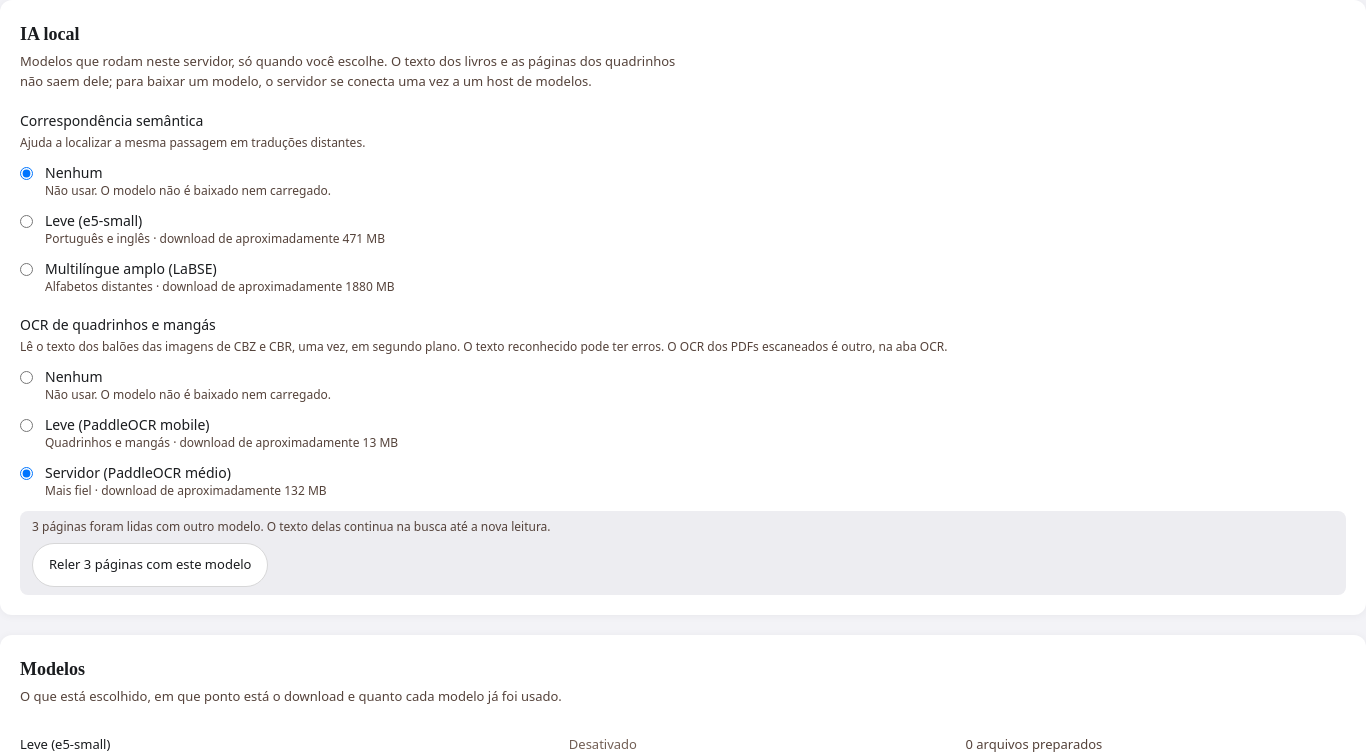
Scenario: IA local: reading again with the chosen model › does not read again when the question is cancelled
Click the button "Reler 3 páginas com este modelo". click: (150, 565)
box: x1=32 y1=543 x2=268 y2=587
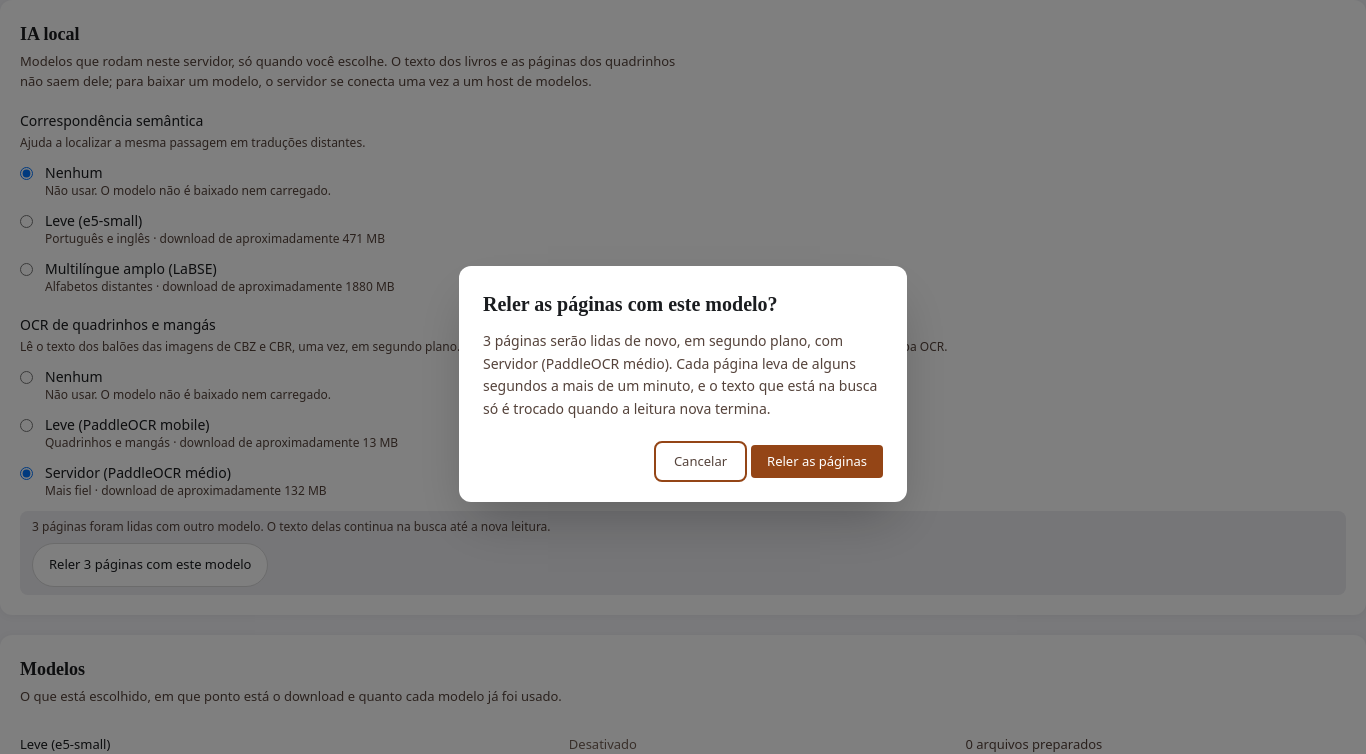
Click the button "Cancelar". click: (700, 461)
box: x1=658 y1=445 x2=743 y2=478
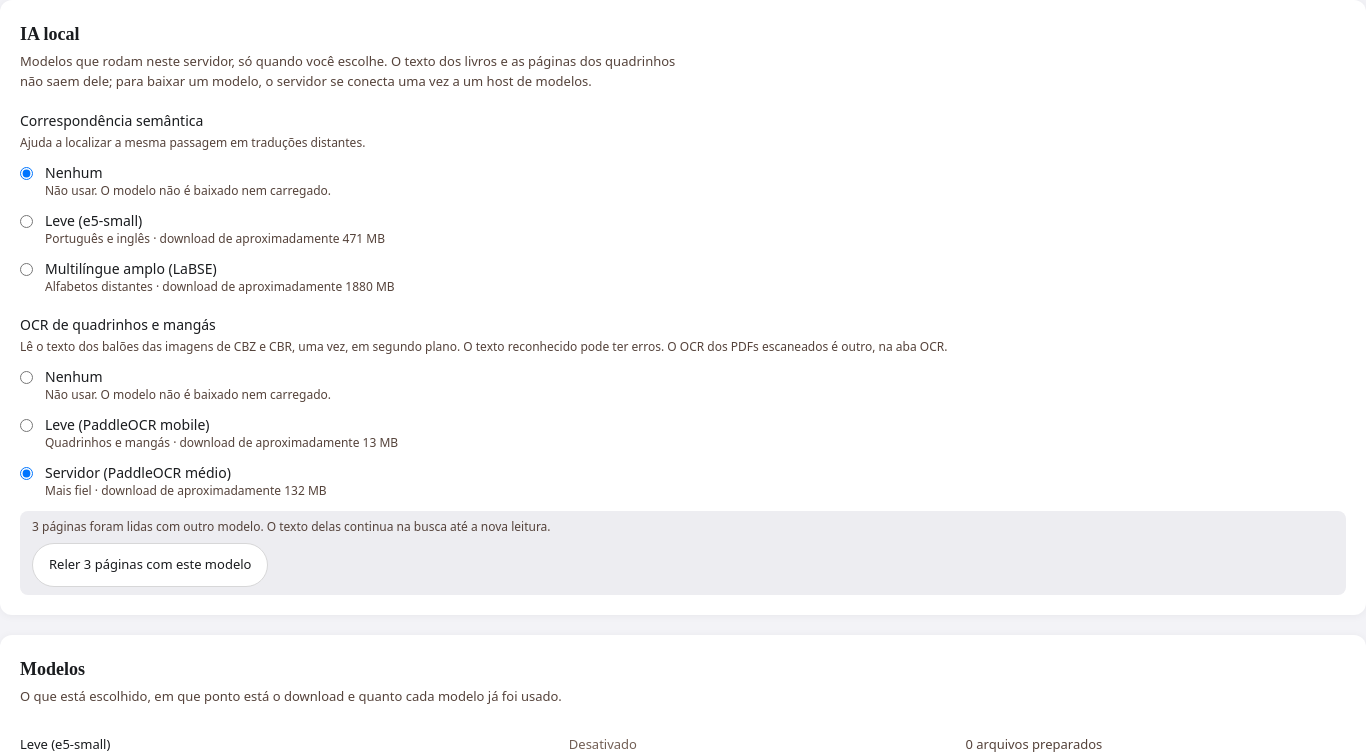
Expected: the dialog is gone
